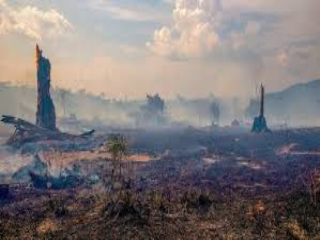smoke: (150, 2, 235, 60)
